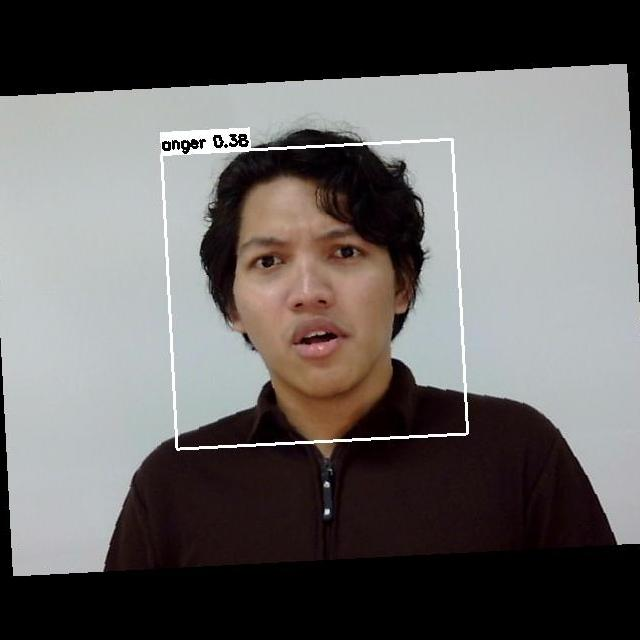Surprised: (227, 207, 406, 379)
